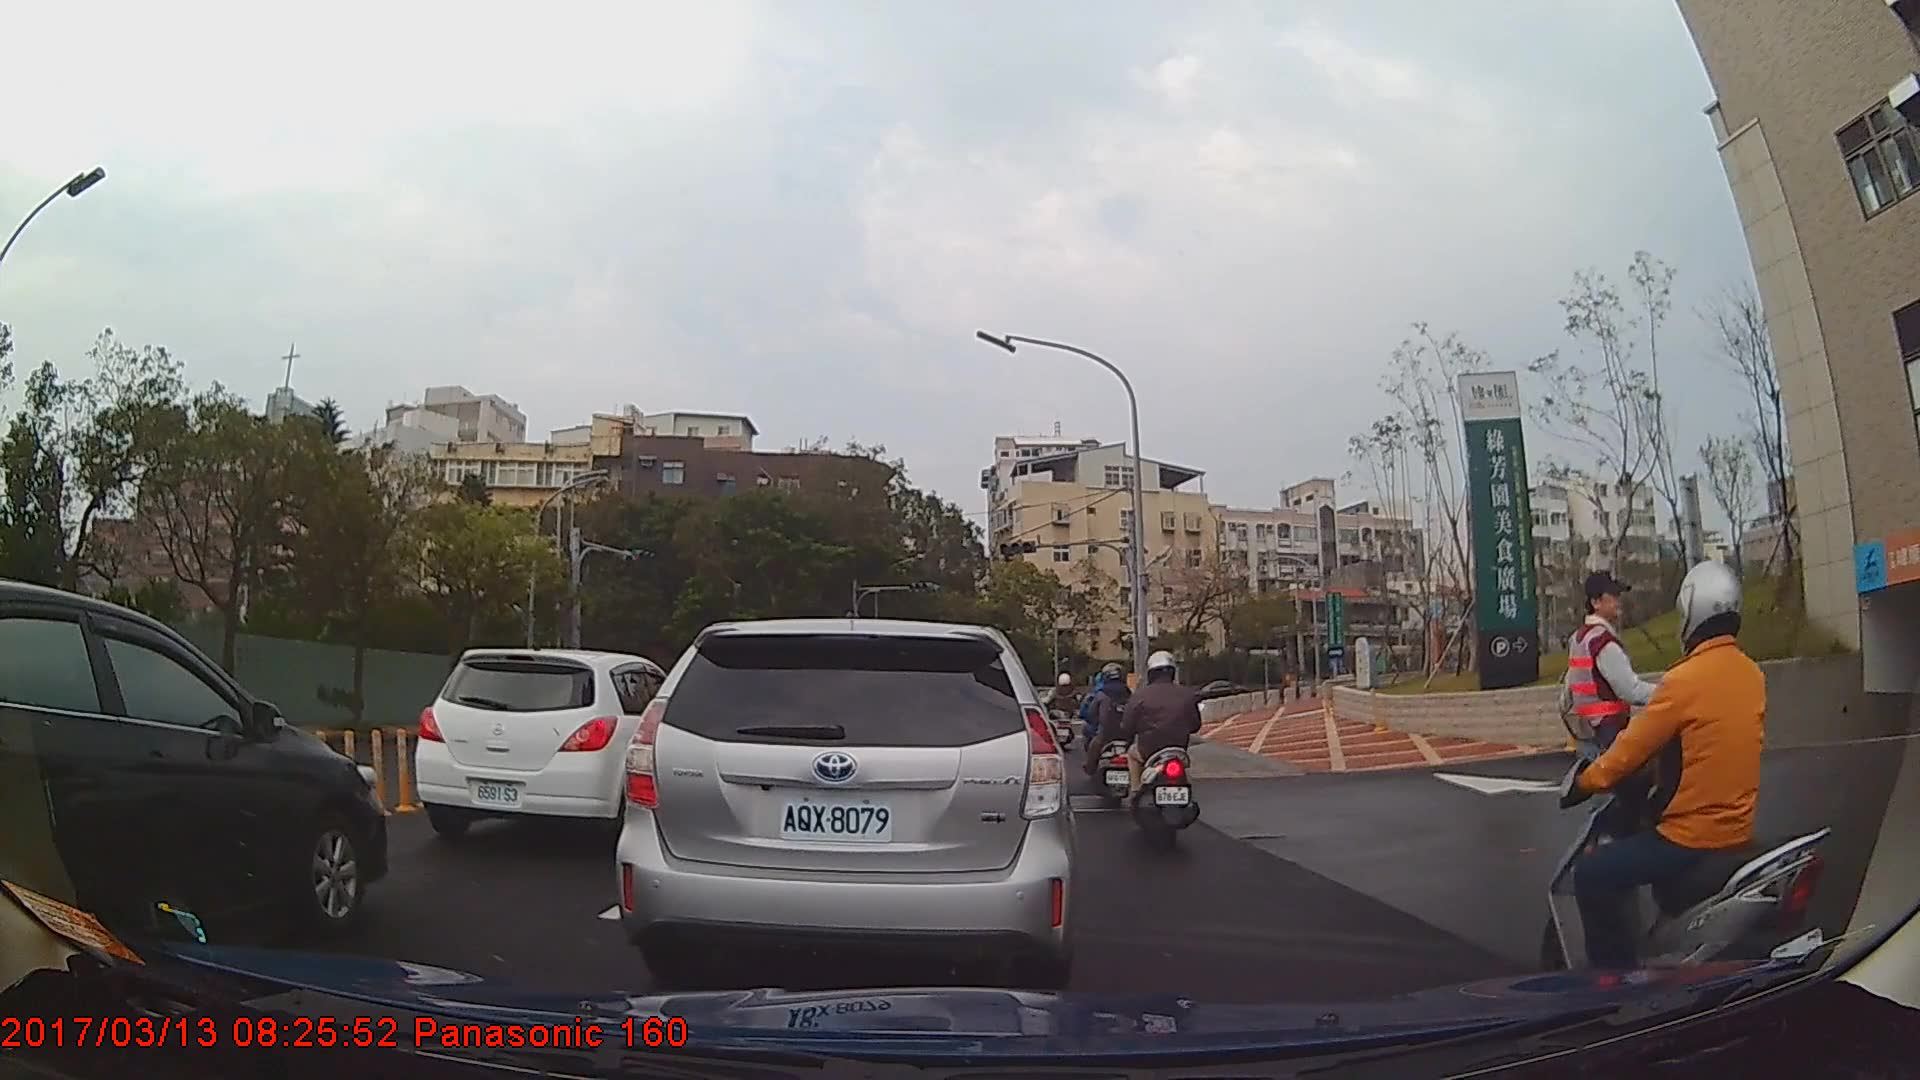pedestrian: (1551, 574, 1705, 918)
rider: (1518, 558, 1836, 1020), (1128, 648, 1204, 857), (1086, 663, 1140, 805), (1045, 671, 1078, 756)
vehicle: (616, 619, 1071, 984), (0, 578, 389, 960), (413, 648, 712, 844), (1183, 677, 1250, 710)
